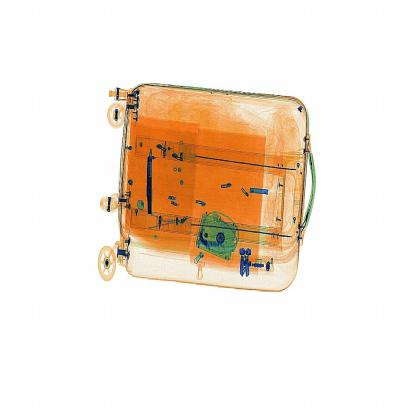pliers: (142, 148, 158, 216)
